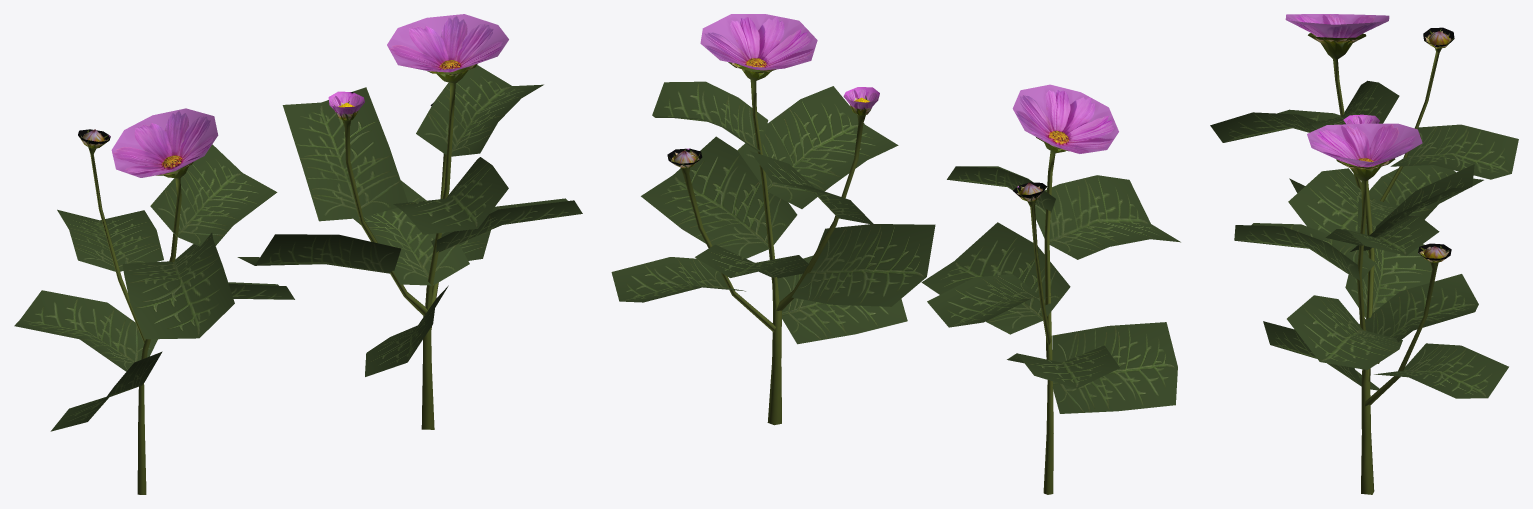
The model's file is Cosmos.FBX.
The picture shows the model from 3 angles, left to right: view 1: azimuth 30°, elevation 25°; view 2: azimuth 150°, elevation 25°; view 3: azimuth 270°, elevation 25°; orthographic projection. The views are drawn at different scales.
Visible parts, largest first — view 1: cosmos01, cosmos02; view 2: cosmos01, cosmos02; view 3: cosmos01, cosmos02.
Part boxes in pixels (bbox=[...]): cosmos01: bbox=[237, 14, 582, 429]; cosmos02: bbox=[14, 108, 294, 494]; cosmos01: bbox=[611, 14, 935, 425]; cosmos02: bbox=[921, 84, 1180, 494]; cosmos01: bbox=[1234, 114, 1508, 494]; cosmos02: bbox=[1210, 14, 1518, 363].
Bounding box in the file's own units: 128 × 89.29 × 68.36.
